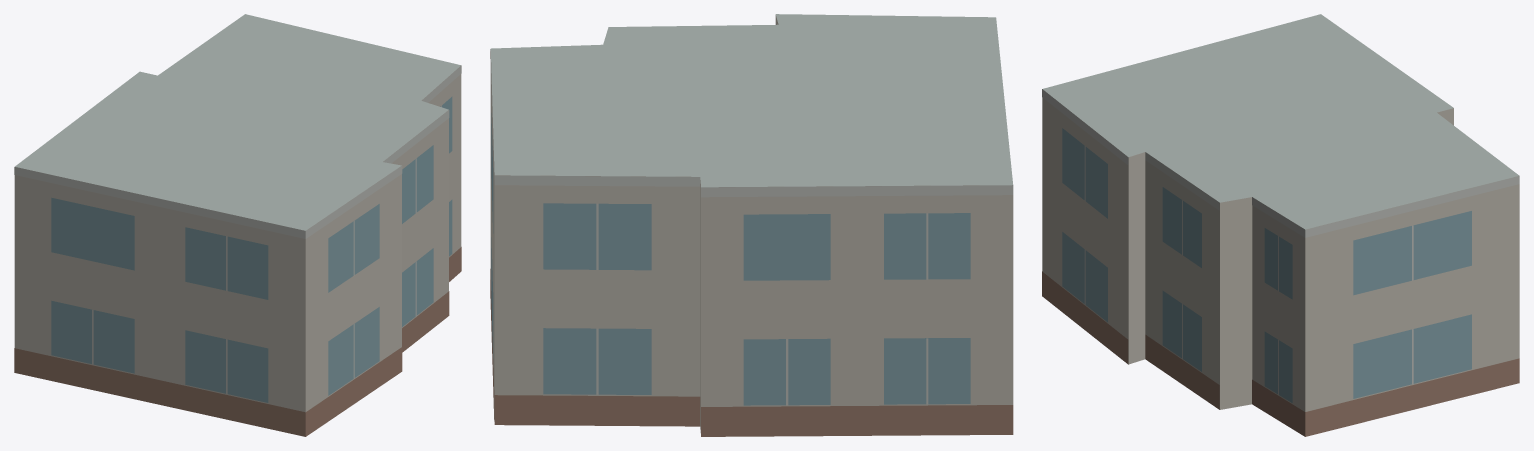
The model's file is survey-upis-32823268.glb.
3 views of the same model, side by side, from view 1: azimuth 30°, elevation 25°; view 2: azimuth 150°, elevation 25°; view 3: azimuth 270°, elevation 25° (orthographic). The views are drawn at different scales.
Parts seen in each view (by area): view 1: survey-upis-32823268.tmp; view 2: survey-upis-32823268.tmp; view 3: survey-upis-32823268.tmp.
Part boxes in pixels (<box>): survey-upis-32823268.tmp: <box>14,14,461,436</box>; survey-upis-32823268.tmp: <box>490,14,1013,436</box>; survey-upis-32823268.tmp: <box>1042,14,1519,436</box>.
Size of the model in its own units: 13.61 by 6.1 by 12.74.
